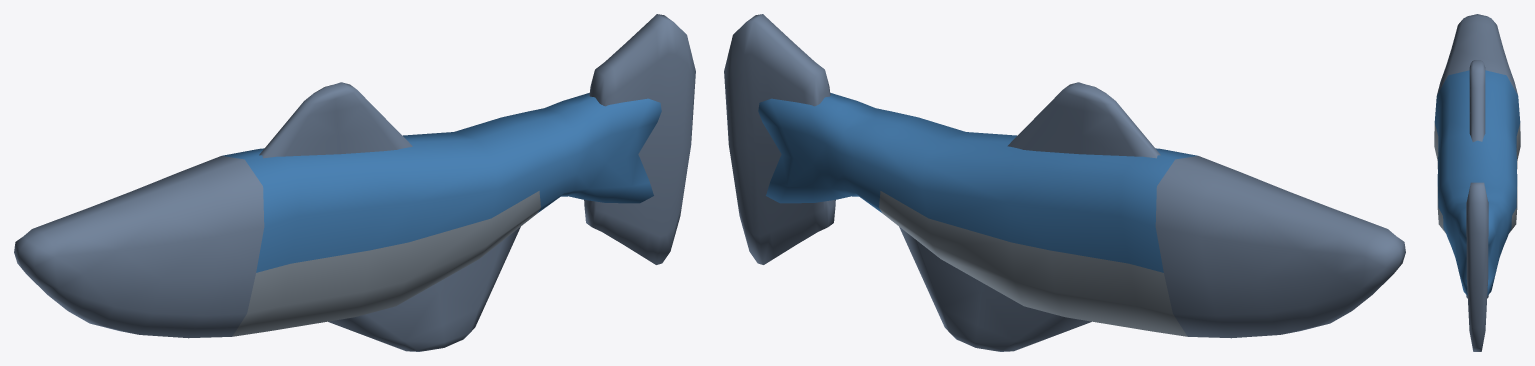
Rendered from fish.glb.
3 renders of one model, left to right at view 1: azimuth 30°, elevation 25°; view 2: azimuth 150°, elevation 25°; view 3: azimuth 270°, elevation 25°, orthographic. The views are drawn at different scales.
Visible parts, largest first — view 1: Prop_Fish_Mackerel; view 2: Prop_Fish_Mackerel; view 3: Prop_Fish_Mackerel.
Part boxes in pixels (x1,y1,x2,y2): Prop_Fish_Mackerel: (14, 14, 695, 351); Prop_Fish_Mackerel: (724, 14, 1405, 351); Prop_Fish_Mackerel: (1434, 14, 1520, 351).
Bounding box in the file's own units: 1.56 × 0.6294 × 0.2494.
